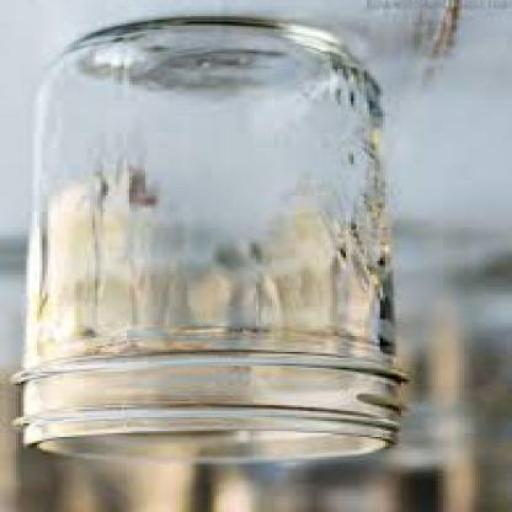glass: (8, 18, 404, 468)
